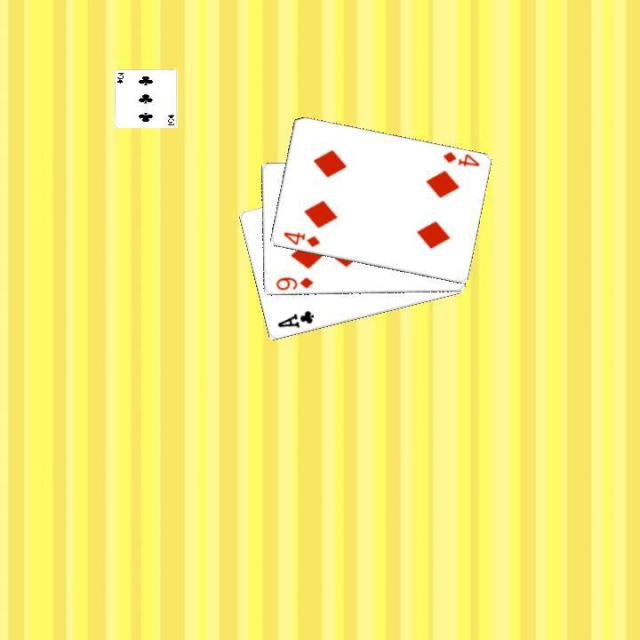4D: (438, 147, 481, 169), (279, 228, 321, 250)
9D: (272, 274, 315, 292)
AC: (273, 306, 315, 330)
